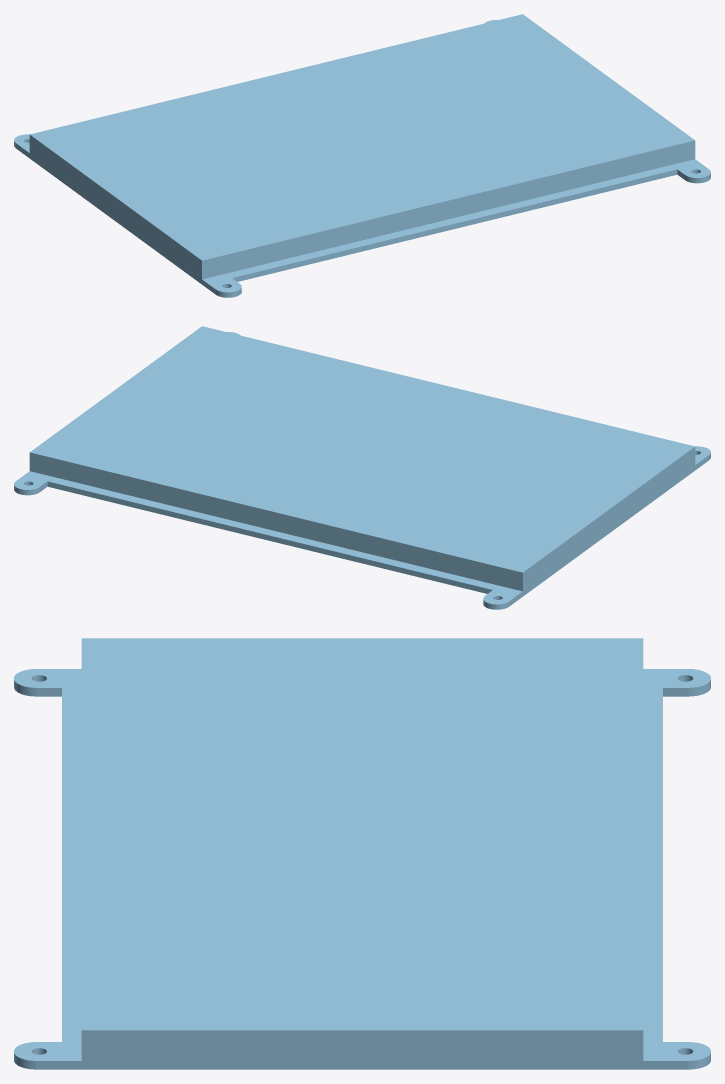
File: display.glb
The picture shows the model from 3 angles, top to bottom: view 1: azimuth 30°, elevation 25°; view 2: azimuth 150°, elevation 25°; view 3: azimuth 270°, elevation 25°; orthographic projection. The views are drawn at different scales.
Visible parts, largest first — view 1: Part 1, Part 2; view 2: Part 1, Part 2; view 3: Part 1, Part 2.
Part boxes in pixels (x1,y1,x2,y2): Part 1: [29, 14, 695, 279]; Part 2: [14, 20, 710, 297]; Part 1: [29, 326, 695, 591]; Part 2: [14, 332, 710, 609]; Part 1: [81, 638, 643, 1060]; Part 2: [14, 669, 710, 1069].
Size of the model in its own units: 0.1651 by 0.0077 by 0.124.
